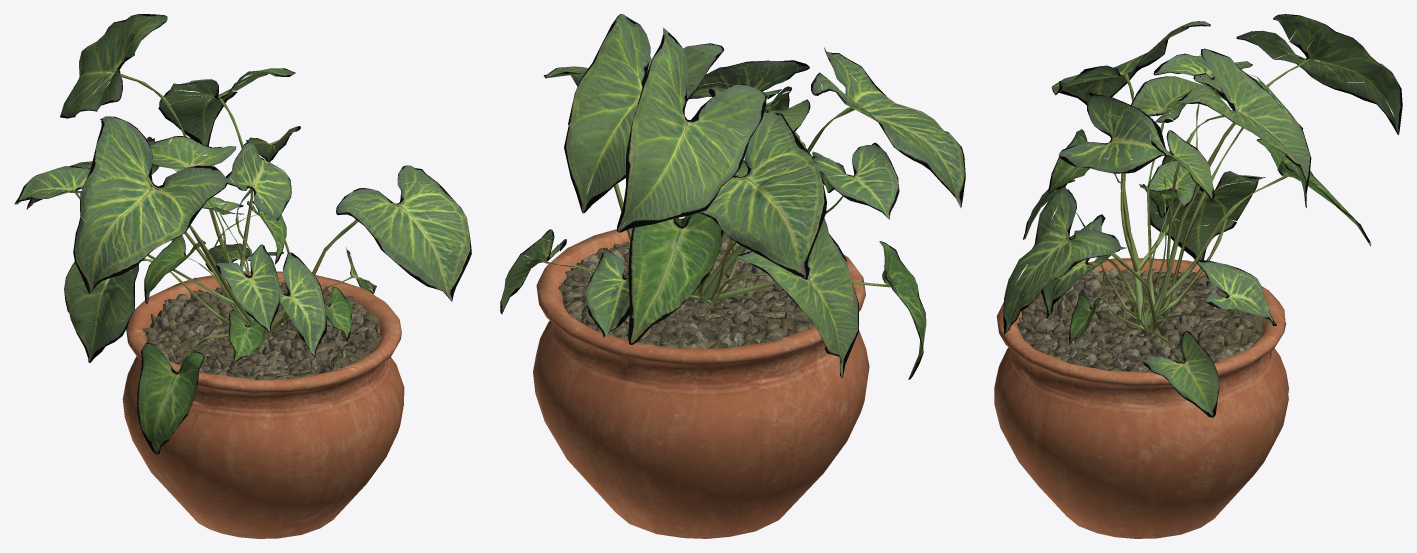
Rendered from potted_plant.glb.
3 renders of one model, left to right at view 1: azimuth 30°, elevation 25°; view 2: azimuth 150°, elevation 25°; view 3: azimuth 270°, elevation 25°, orthographic. The views are drawn at different scales.
Visible parts, largest first — view 1: potted_plant_02_dirt; view 2: potted_plant_02_dirt; view 3: potted_plant_02_dirt.
Part boxes in pixels (bbox=[...]): potted_plant_02_dirt: bbox=[14, 14, 471, 538]; potted_plant_02_dirt: bbox=[500, 14, 965, 538]; potted_plant_02_dirt: bbox=[994, 14, 1402, 538].
Bounding box in the file's own units: 0.7008 × 0.8416 × 0.6564.
Materials: 2 (2 with a texture image).
